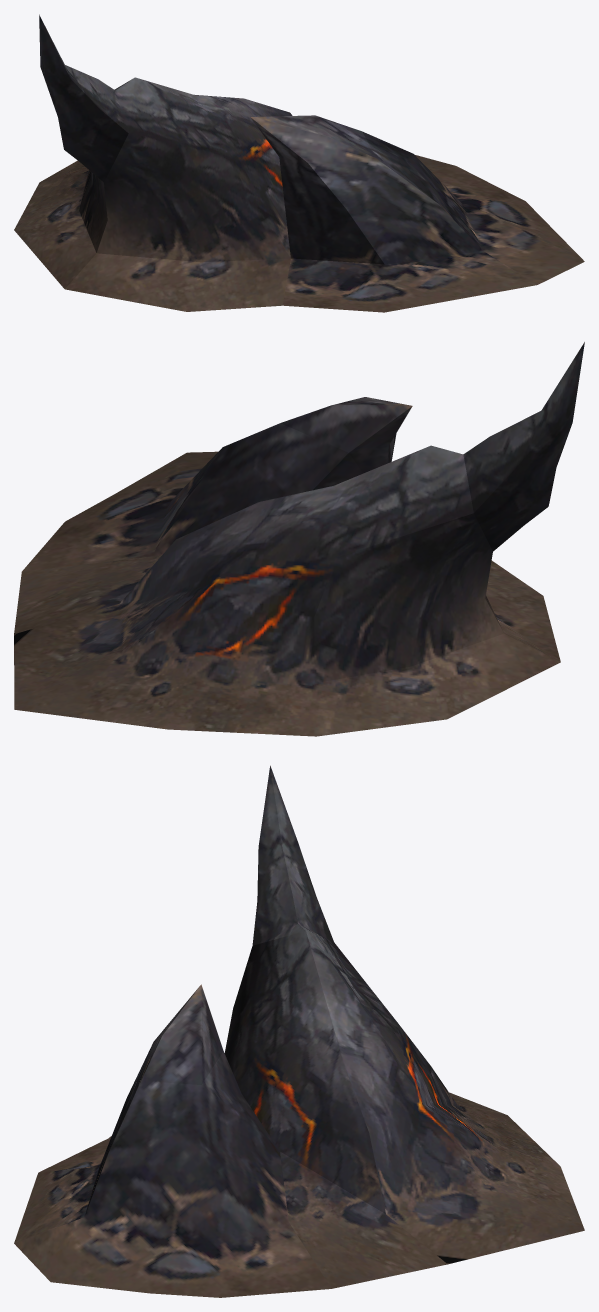
Rendered from ruisi_guaishi03.FBX.
The picture shows the model from 3 angles, top to bottom: view 1: azimuth 30°, elevation 25°; view 2: azimuth 150°, elevation 25°; view 3: azimuth 270°, elevation 25°; orthographic projection. The views are drawn at different scales.
Visible parts, largest first — view 1: ruisi_guaishi03; view 2: ruisi_guaishi03; view 3: ruisi_guaishi03.
Part boxes in pixels (box(x1,y1,x2,y2)): ruisi_guaishi03: box(14, 14, 584, 312); ruisi_guaishi03: box(14, 342, 584, 736); ruisi_guaishi03: box(14, 765, 584, 1297).
Size of the model in its own units: 54.08 by 31.54 by 55.12.
